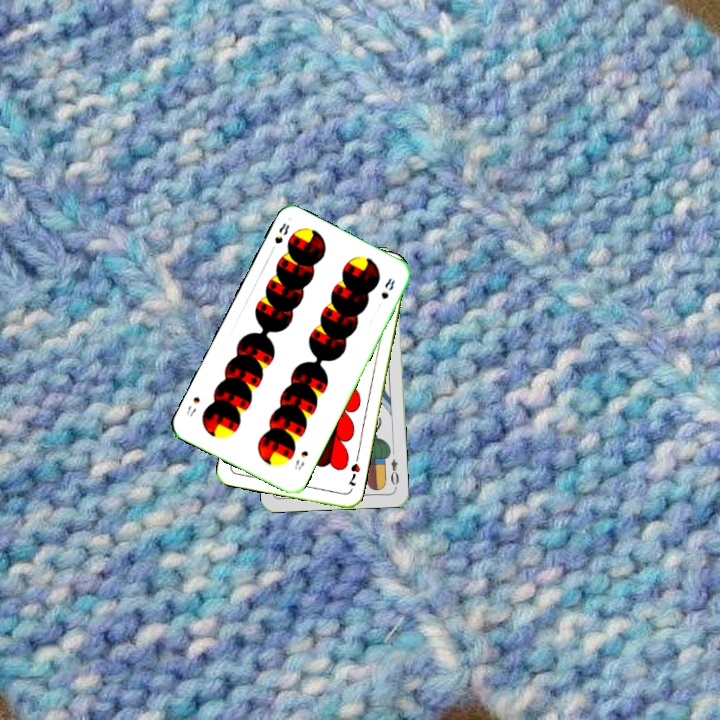EO: (387, 455, 402, 491)
H7: (344, 459, 363, 488)
S8: (266, 219, 292, 255), (290, 446, 311, 473)
